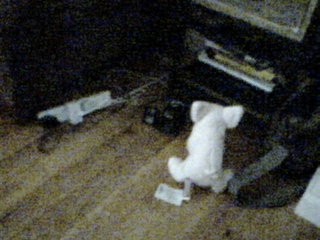piggy: (166, 97, 245, 196)
